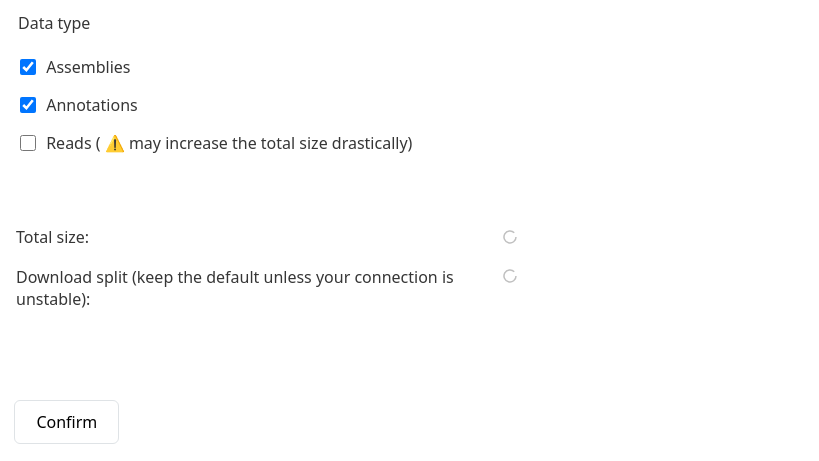
Test: on form submit › disables the form
Expected: the element named "Estimating the download size. Please wait" is enabled, 16,12 -> 519,310
Click the button "Confirm".
click(67, 422)  # box 14,400 -> 119,444
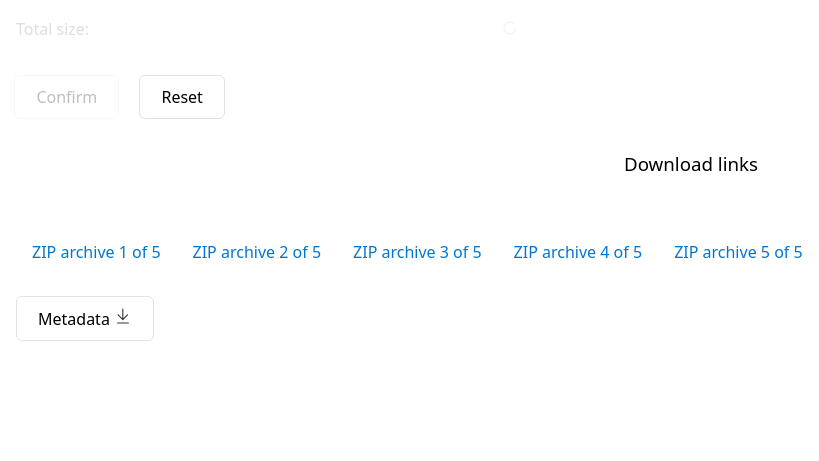
Result: the element showing "Total size:" is disabled at 16,18 -> 519,40
